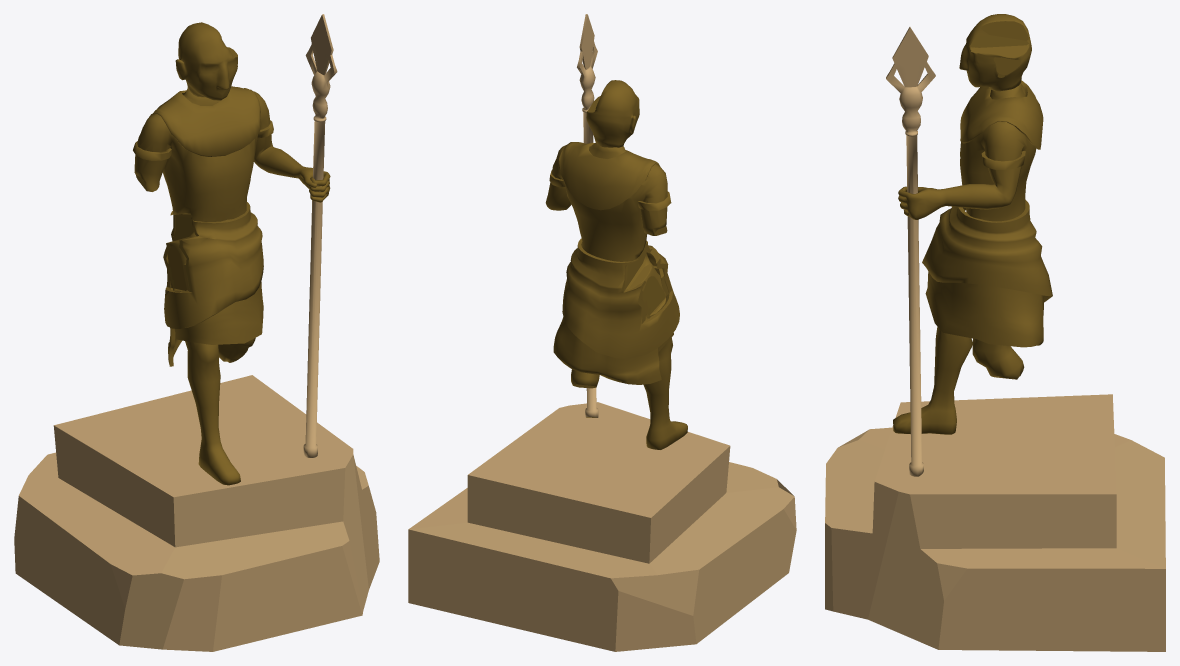
File: RuinsStatue_02.fbx
The picture shows the model from 3 angles, left to right: view 1: azimuth 30°, elevation 25°; view 2: azimuth 150°, elevation 25°; view 3: azimuth 270°, elevation 25°; orthographic projection. The views are drawn at different scales.
Visible parts, largest first — view 1: Base.002, Statue.001, Statue.003; view 2: Base.002, Statue.001, Statue.003; view 3: Base.002, Statue.001, Statue.003.
Boxes of the visible parts, bbox=[...] form: Base.002: bbox=[14, 375, 379, 651]; Statue.001: bbox=[133, 14, 337, 485]; Statue.003: bbox=[175, 22, 237, 100]; Base.002: bbox=[408, 402, 796, 651]; Statue.001: bbox=[545, 14, 687, 449]; Statue.003: bbox=[586, 80, 639, 147]; Base.002: bbox=[825, 394, 1165, 651]; Statue.001: bbox=[886, 27, 1052, 476]; Statue.003: bbox=[959, 14, 1031, 91].
Bounding box in the file's own units: 246 × 472 × 248.
